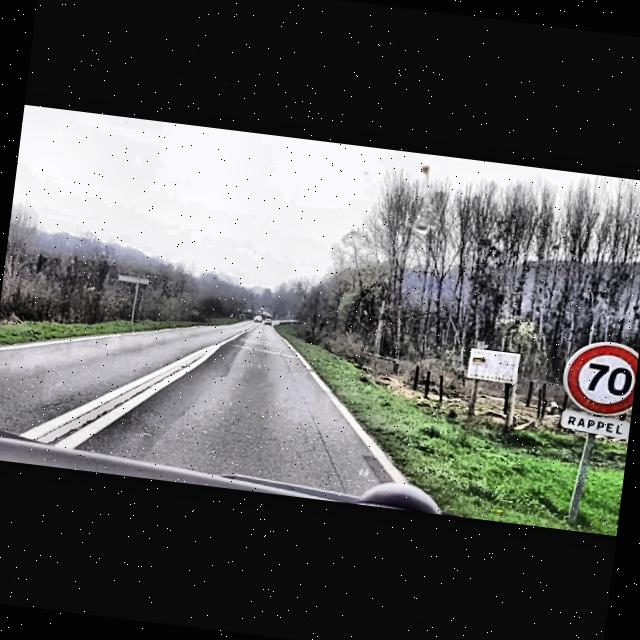speed_70: (562, 340, 638, 419)
